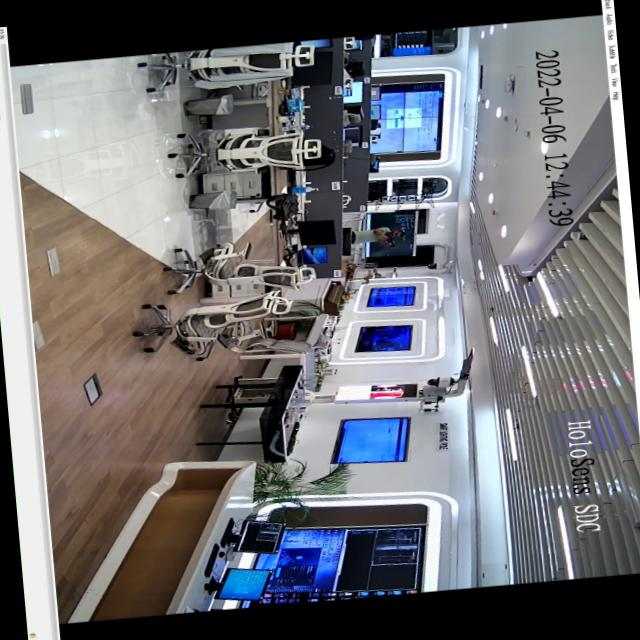long weapon: (378, 230, 398, 251)
